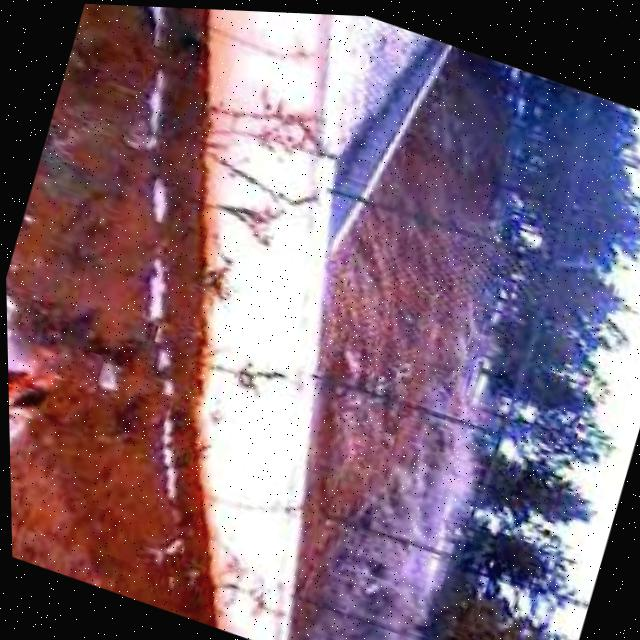Fire: (6, 324, 77, 461)
